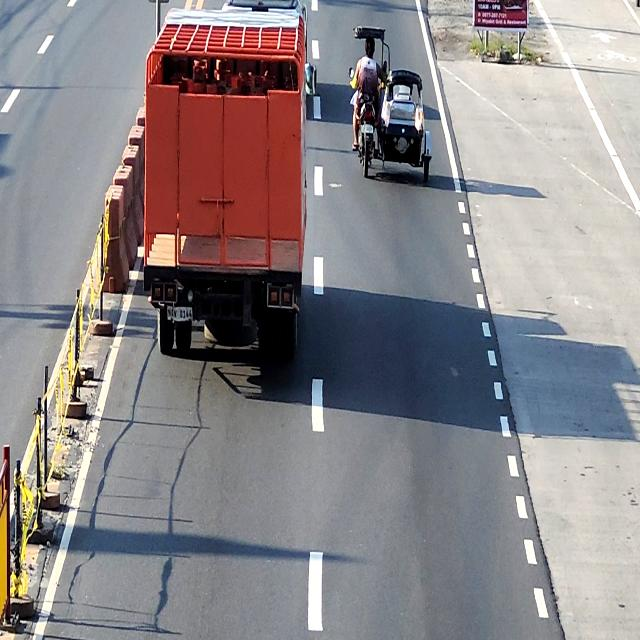License-Plate: (166, 304, 193, 323), (362, 124, 374, 134)
Tricycle: (349, 24, 432, 186)
Truck: (144, 8, 317, 364)
